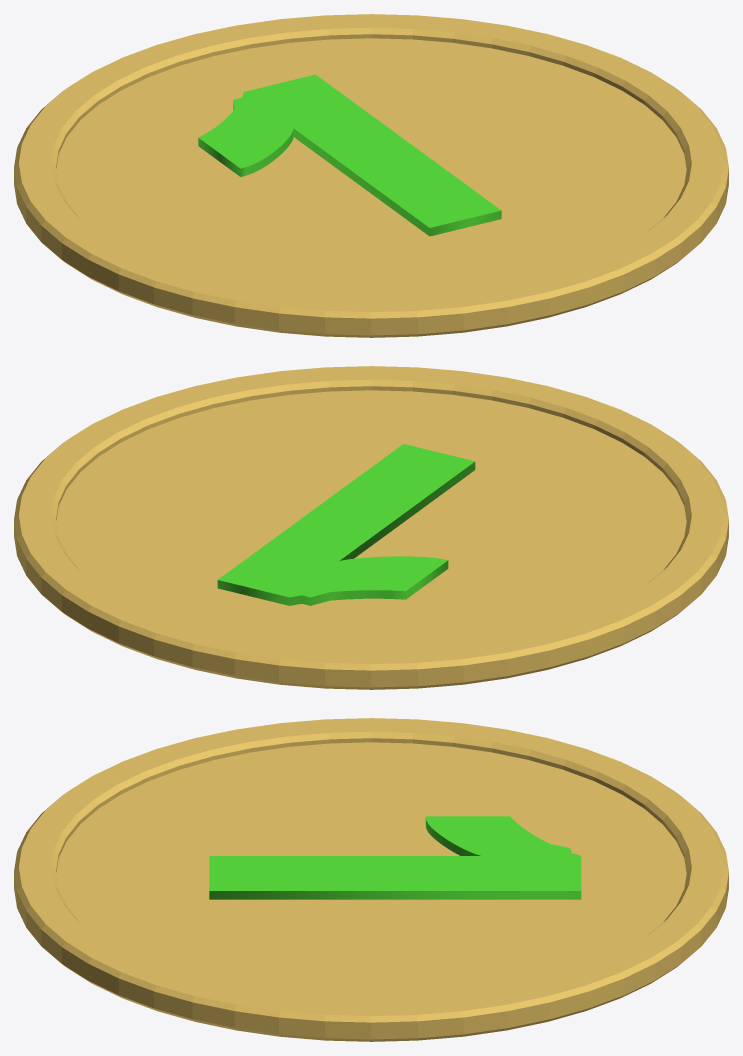
The model's file is coin6.fbx.
3 renders of one model, top to bottom at view 1: azimuth 30°, elevation 25°; view 2: azimuth 150°, elevation 25°; view 3: azimuth 270°, elevation 25°, orthographic.
Parts seen in each view (by area): view 1: Cylinder.004; view 2: Cylinder.004; view 3: Cylinder.004.
Boxes of the visible parts, bbox=[...] form: Cylinder.004: bbox=[14, 14, 728, 337]; Cylinder.004: bbox=[14, 366, 728, 689]; Cylinder.004: bbox=[14, 718, 728, 1041].
Size of the model in its own units: 324 by 12.86 by 324.
